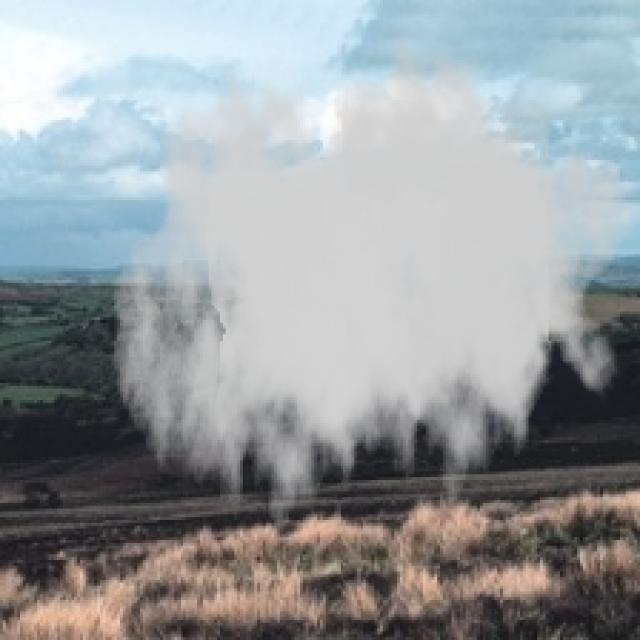smoke: (111, 26, 632, 560)
